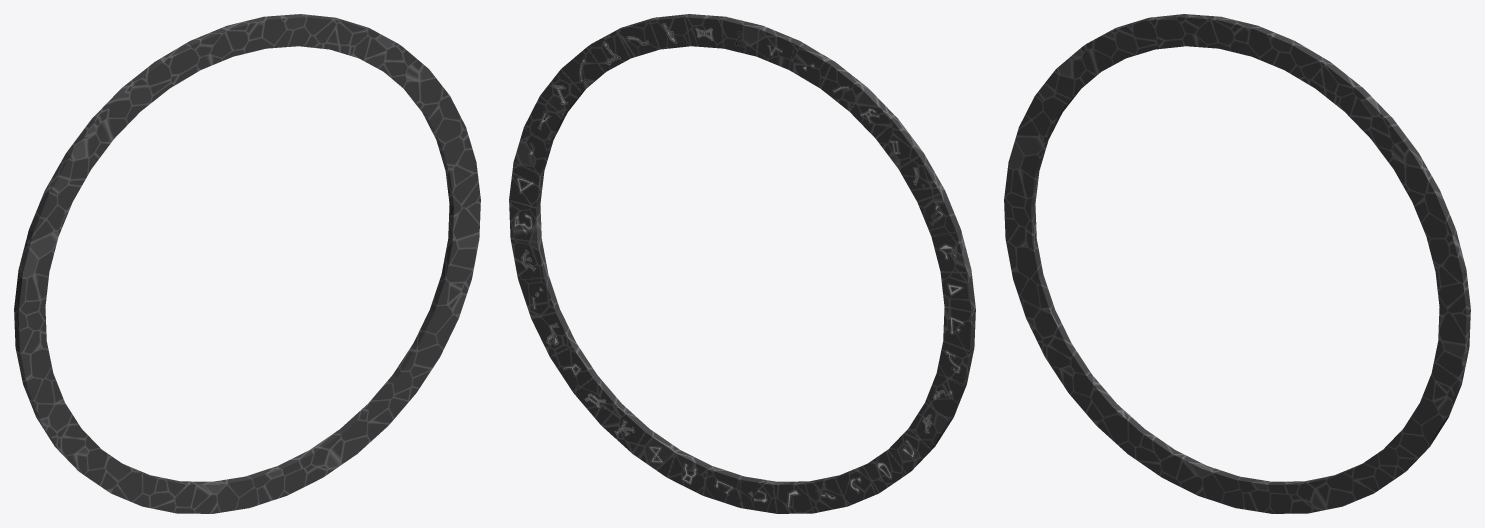
File: Gate_Ring.glb
The picture shows the model from 3 angles, left to right: view 1: azimuth 30°, elevation 25°; view 2: azimuth 150°, elevation 25°; view 3: azimuth 330°, elevation 25°; orthographic projection.
Visible parts, largest first — view 1: Circle; view 2: Circle; view 3: Circle.
Boxes of the visible parts, x1=… form: Circle: x1=14, y1=14, x2=480, y2=513; Circle: x1=509, y1=14, x2=975, y2=513; Circle: x1=1004, y1=14, x2=1470, y2=513.
Bounding box in the file's own units: 6 × 5.99 × 0.1.
Materials: 1 (1 with a texture image).
